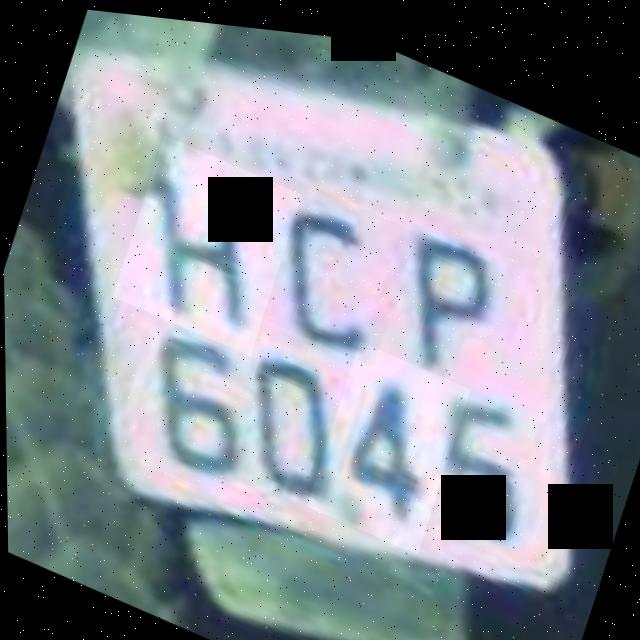0: (203, 303, 390, 522)
4: (303, 329, 471, 550)
5: (386, 343, 576, 560)
6: (108, 285, 293, 507)
C: (241, 165, 418, 363)
H: (110, 127, 303, 356)
P: (355, 186, 541, 408)
